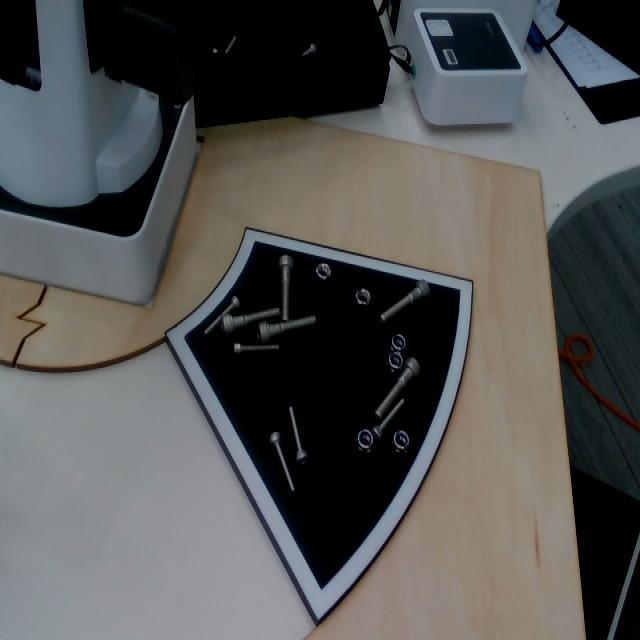M4x30 Screw: (203, 294, 241, 340), (271, 428, 294, 492), (374, 396, 407, 438), (288, 405, 310, 467), (234, 339, 280, 356)
M6 Hex Lock Nut: (392, 428, 412, 454), (356, 430, 376, 454), (352, 286, 373, 308), (389, 349, 406, 373), (390, 333, 406, 355), (315, 262, 332, 282)
M6x40 Screw: (375, 358, 419, 418), (220, 304, 284, 341), (382, 279, 430, 323), (256, 312, 316, 341), (279, 252, 294, 325)
